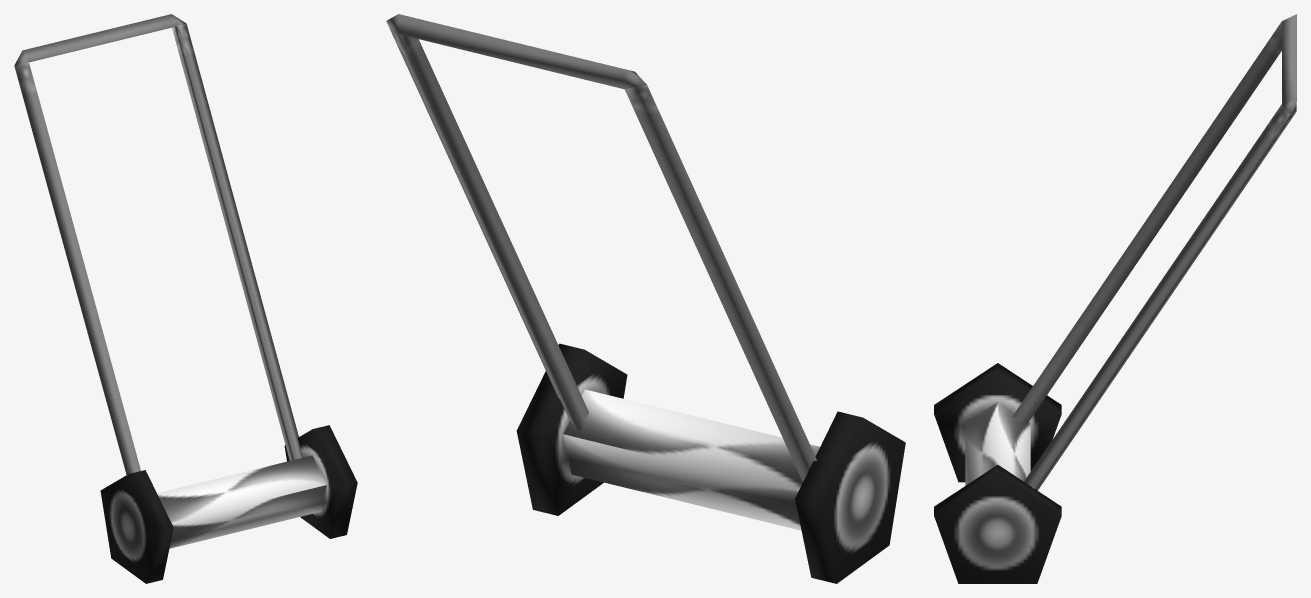
File: PushMower.fbx
The picture shows the model from 3 angles, left to right: view 1: azimuth 30°, elevation 25°; view 2: azimuth 150°, elevation 25°; view 3: azimuth 270°, elevation 25°; orthographic projection. The views are drawn at different scales.
Visible parts, largest first — view 1: Maya_File_Assets:TexturedAssetsCurrent:QuentonAssets02:ReelM; view 2: Maya_File_Assets:TexturedAssetsCurrent:QuentonAssets02:ReelM; view 3: Maya_File_Assets:TexturedAssetsCurrent:QuentonAssets02:ReelM.
Part boxes in pixels (x1,y1,x2,y2): Maya_File_Assets:TexturedAssetsCurrent:QuentonAssets02:ReelM: (14,14,357,583); Maya_File_Assets:TexturedAssetsCurrent:QuentonAssets02:ReelM: (386,14,905,583); Maya_File_Assets:TexturedAssetsCurrent:QuentonAssets02:ReelM: (934,14,1296,583).
Bounding box in the file's own units: 0.5602 × 1.11 × 0.774.
